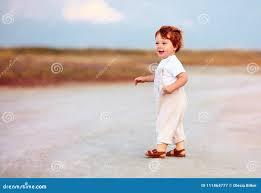Human: (125, 21, 195, 161)
